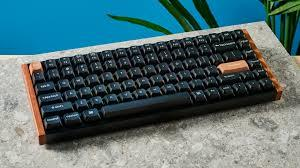keyboard: (20, 26, 282, 144)
